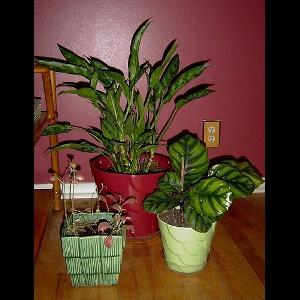flowerpot: (90, 150, 176, 244), (60, 208, 127, 287), (157, 205, 216, 273)
